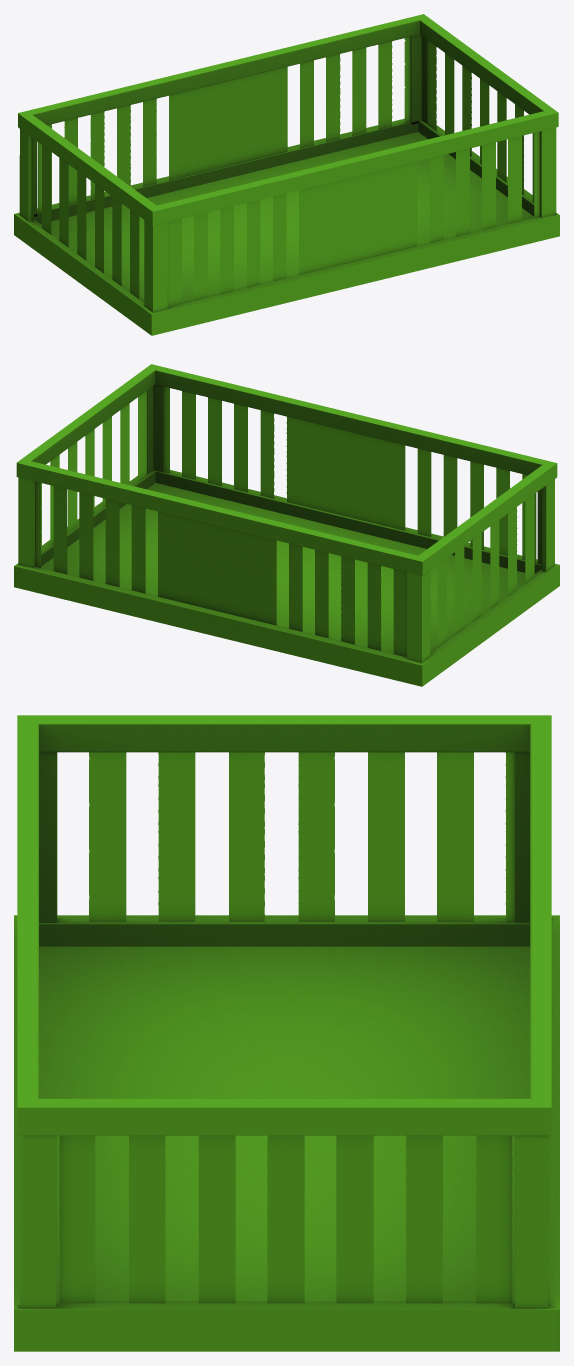
The model's file is basketC.fbx.
3 renders of one model, top to bottom at view 1: azimuth 30°, elevation 25°; view 2: azimuth 150°, elevation 25°; view 3: azimuth 270°, elevation 25°, orthographic. The views are drawn at different scales.
Visible parts, largest first — view 1: polySurface49; view 2: polySurface49; view 3: polySurface49.
Part boxes in pixels (x1,y1,x2,y2): polySurface49: (14,14,559,335); polySurface49: (14,364,559,686); polySurface49: (14,715,559,1351).
Size of the model in its own units: 7.08 by 2.04 by 4.14.
Materials: 1 (1 with a texture image).
